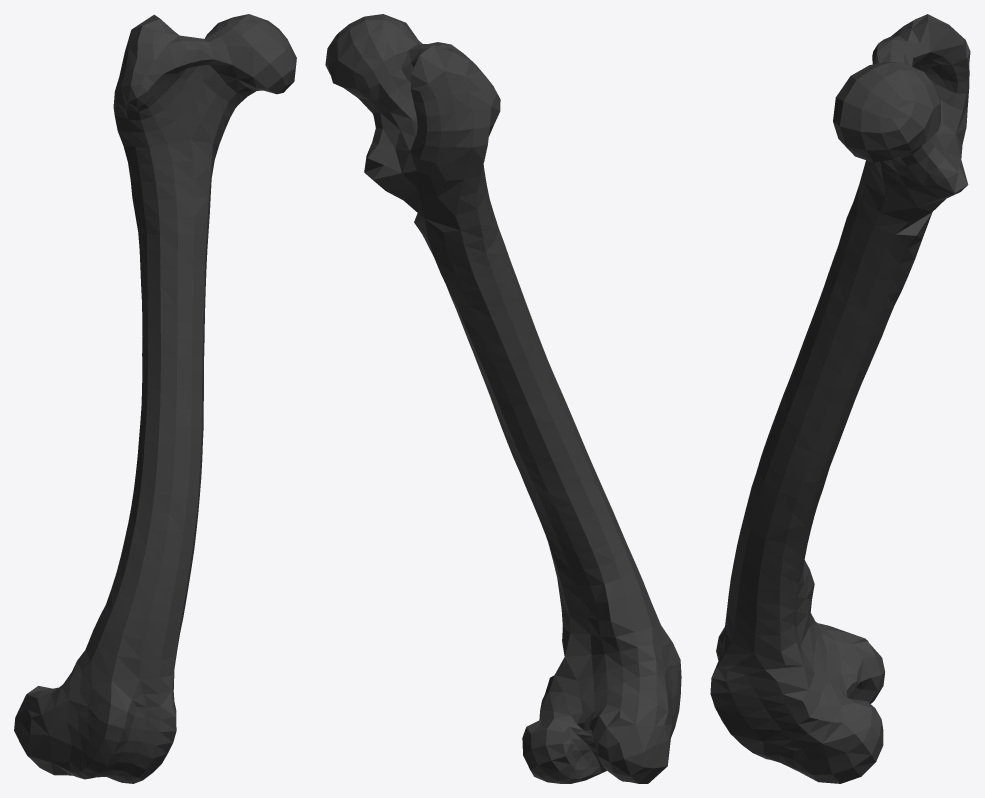
File: Femur_R.glb
3 views of the same model, side by side, from view 1: azimuth 30°, elevation 25°; view 2: azimuth 150°, elevation 25°; view 3: azimuth 270°, elevation 25° (orthographic). The views are drawn at different scales.
Visible parts, largest first — view 1: Femur_R; view 2: Femur_R; view 3: Femur_R.
Part boxes in pixels (x1,y1,x2,y2): Femur_R: [14, 14, 296, 783]; Femur_R: [325, 14, 681, 783]; Femur_R: [710, 14, 970, 783].
Size of the model in its own units: 4.43 by 10.3 by 3.02.
1 material, 1 textured.
